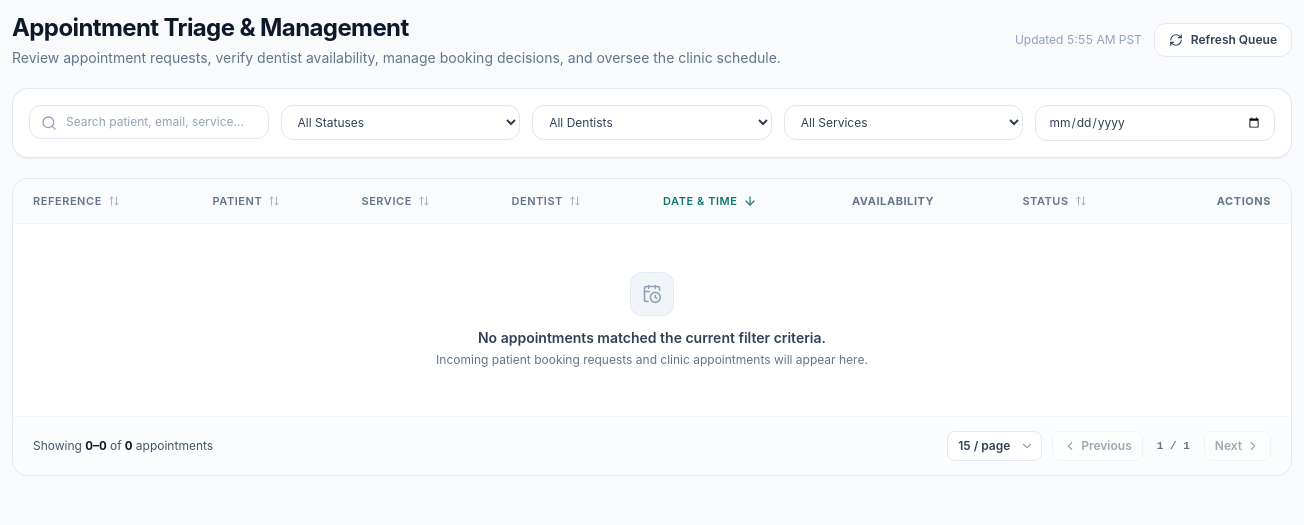
Test: Phase 15: Dashboards, Reports, and Appointment Search UI › AdminAppointmentsPage supports service, dentist, status, and date filters with range validation and Clear Filters
The width and height of the screenshot is (1304, 525).
Select "Tooth Extraction" in the dropdown named "Filter by dental service". click: (904, 122)
box: [784,105,1023,140]
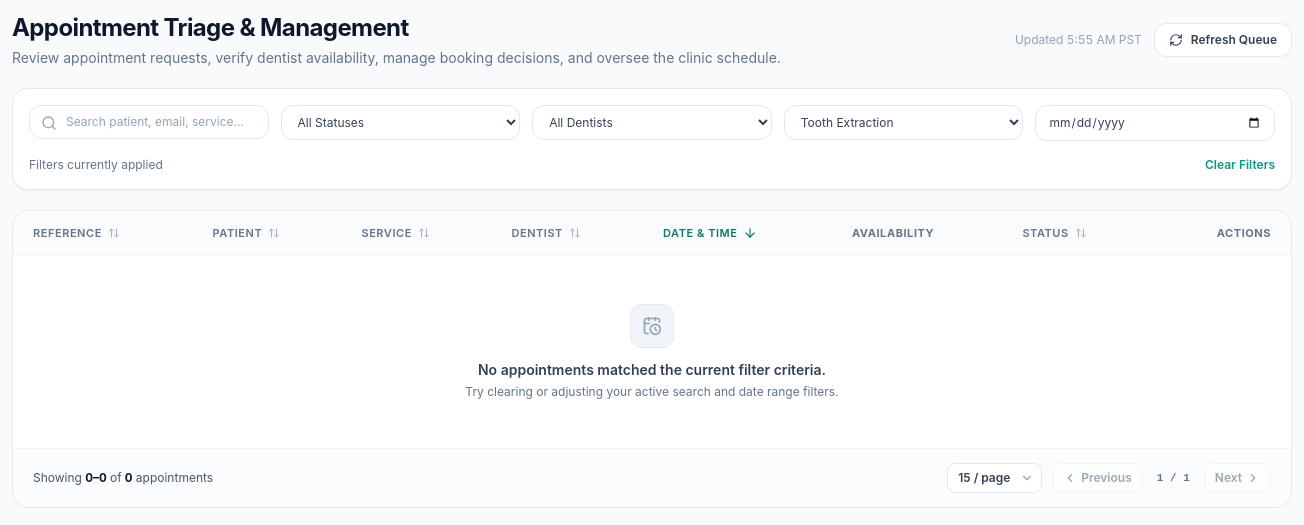
Note: Single calendar date filter sends matching start_date and end_date
Type "2026-12-20" into the date field named "Appointment date". click: (1155, 123)
box: [1035,105,1275,141]
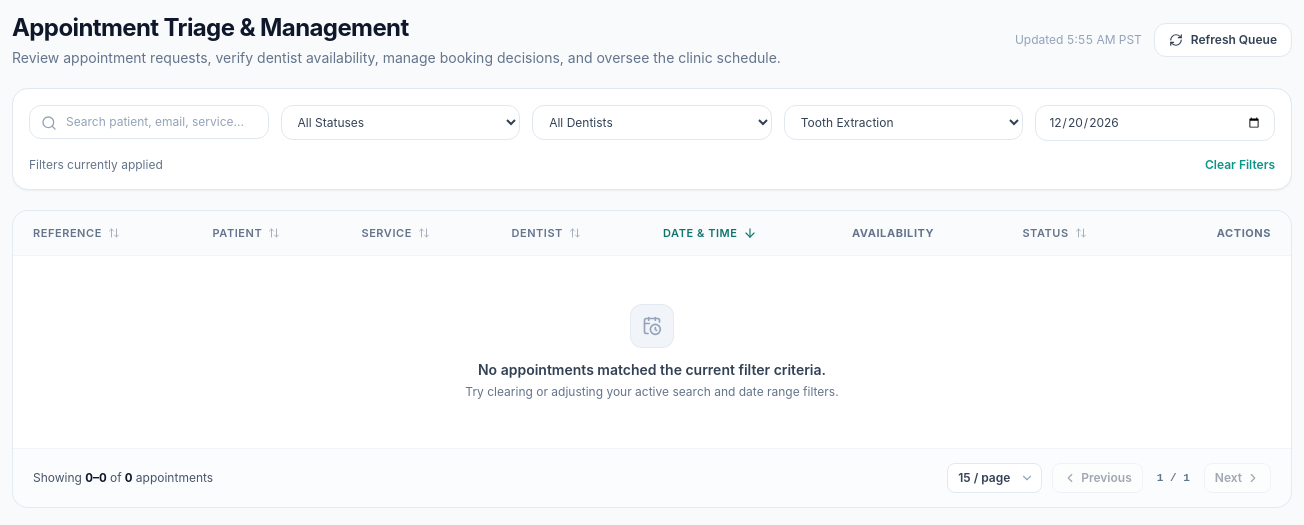
Note: Clear Filters resets everything
Click the button "Clear Filters". click: click(1240, 165)
box: [1205,157,1275,173]
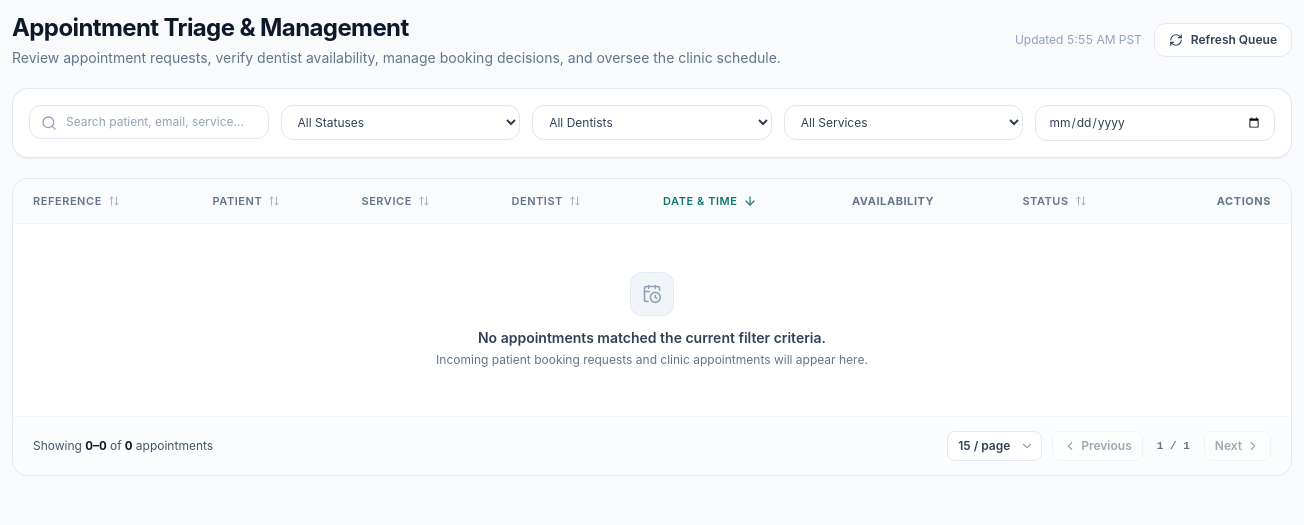
expect the date field named "Appointment date" is empty: met, box [1035,105,1275,141]
